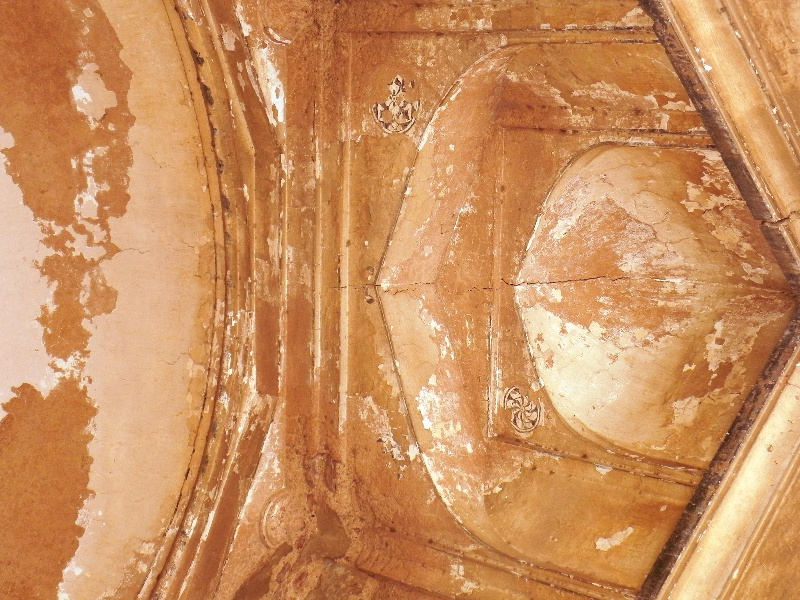Crack: (492, 270, 630, 290), (334, 280, 440, 297)
